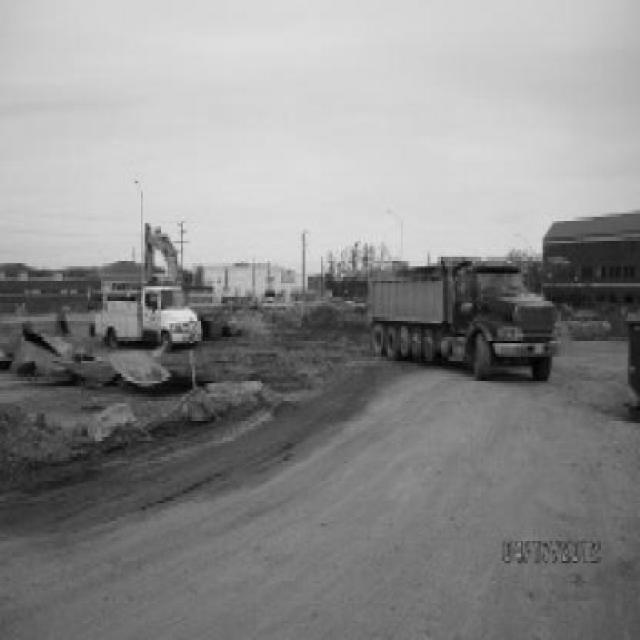Box Truck: (369, 258, 559, 381), (89, 283, 203, 352)
